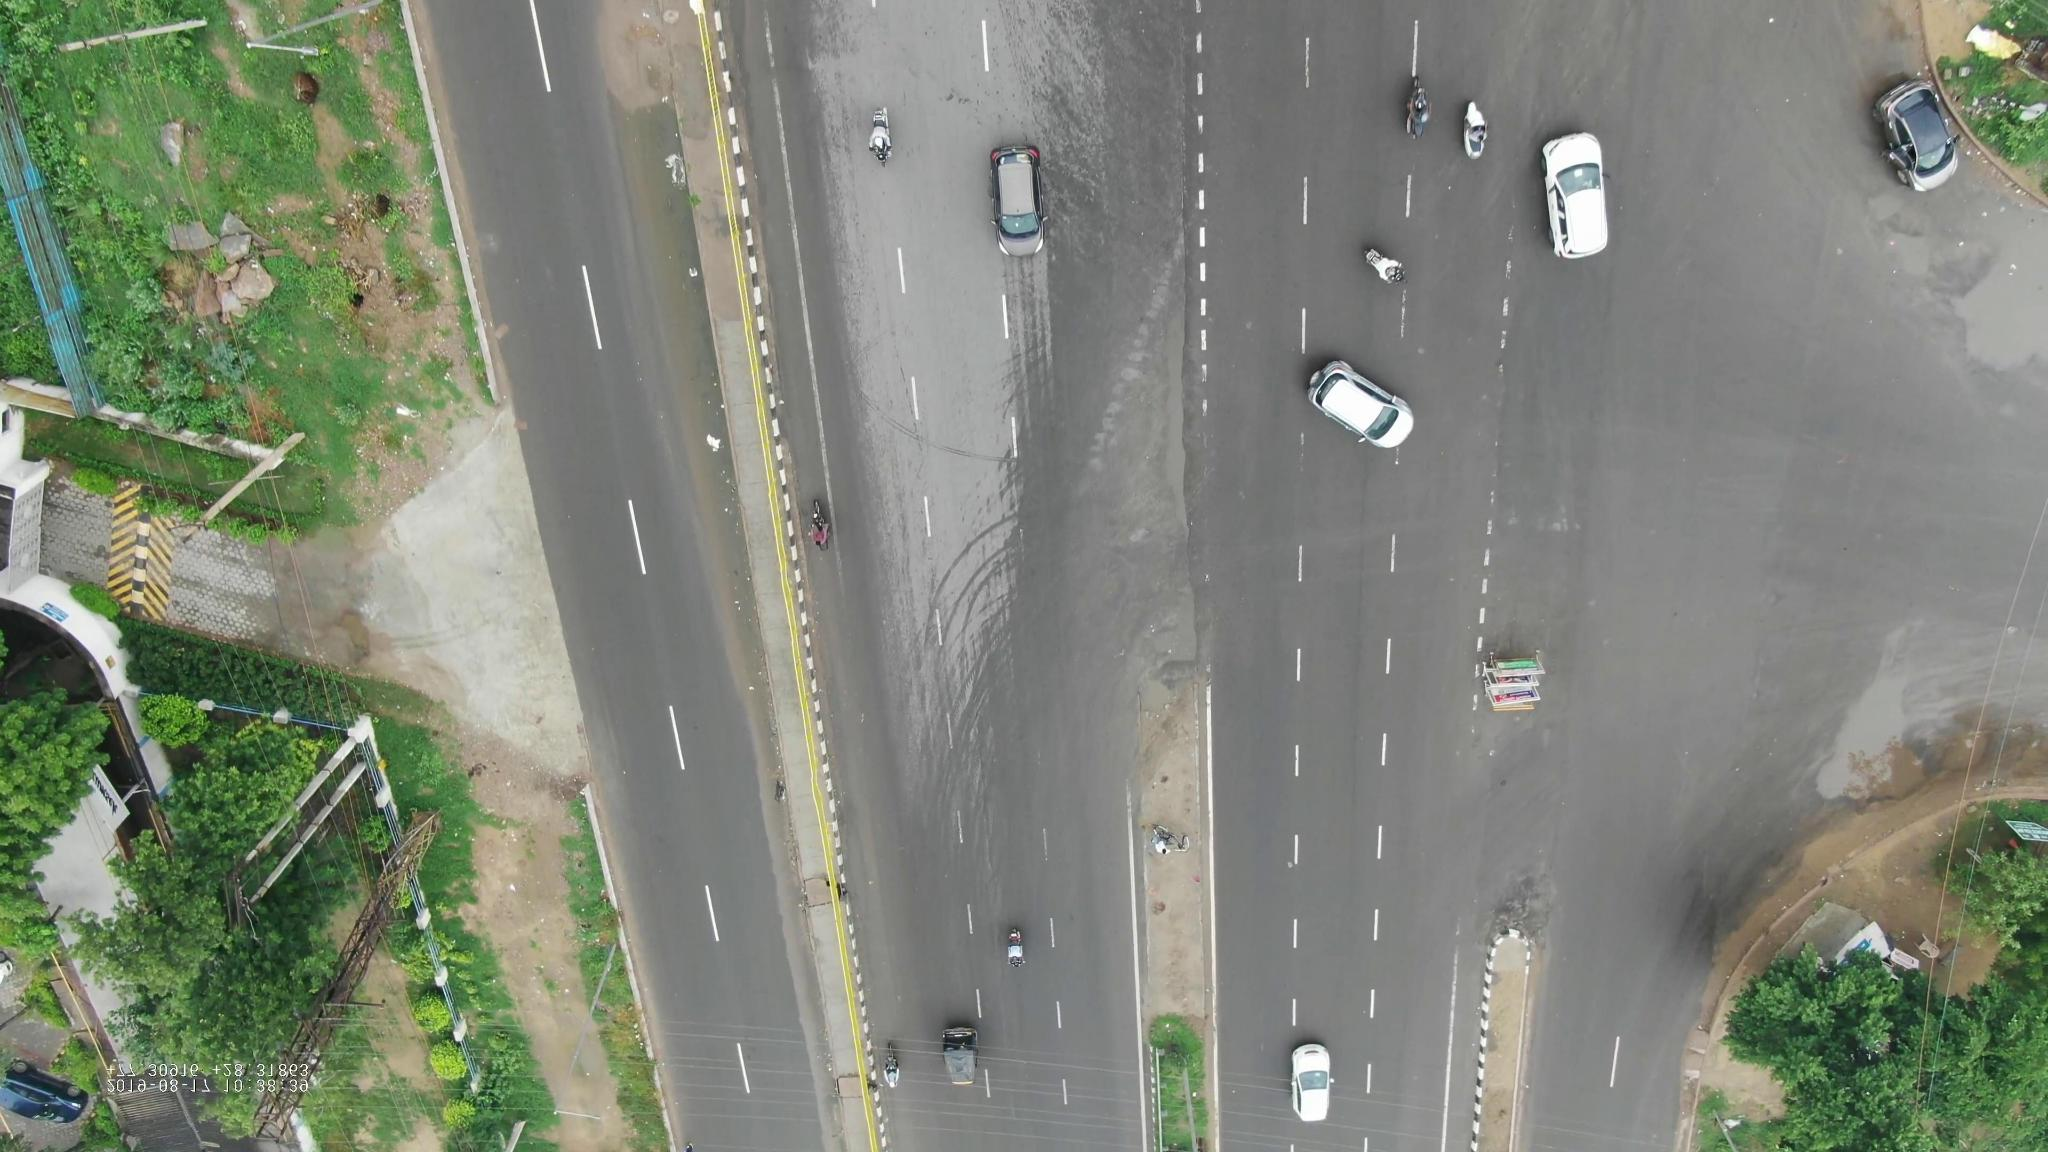Waterlogging: (647, 352, 751, 572), (1806, 663, 1948, 820), (603, 103, 696, 331), (706, 601, 774, 731)
